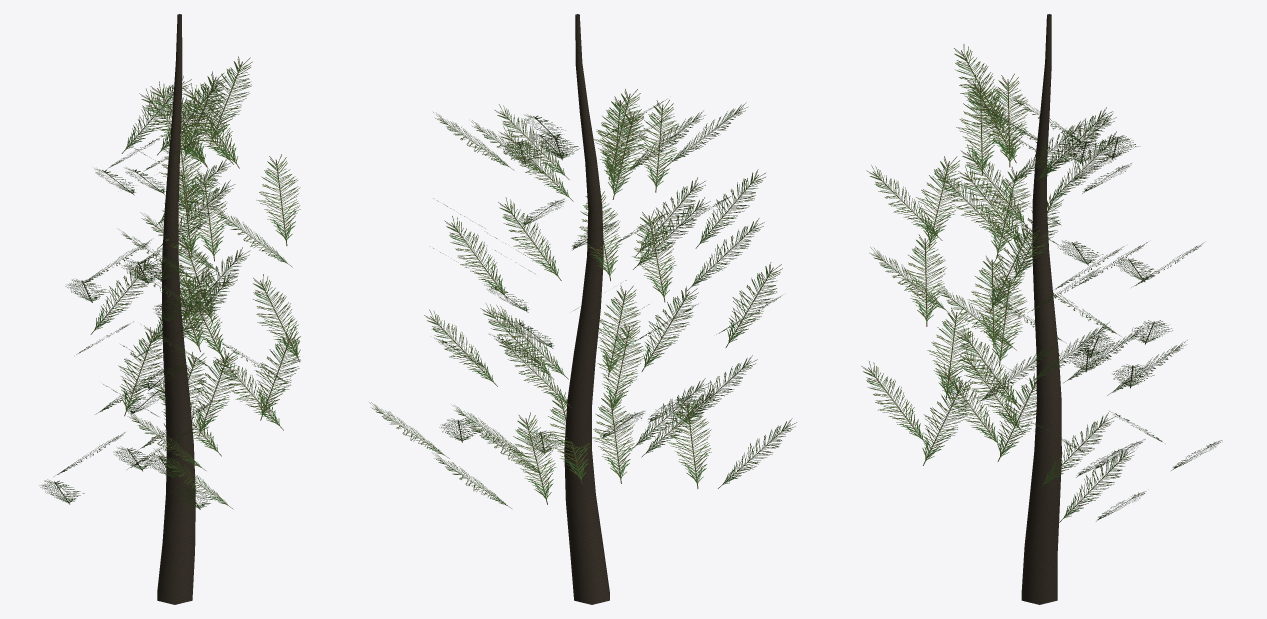
The model's file is Pine_31_LOD2.fbx.
The picture shows the model from 3 angles, left to right: view 1: azimuth 30°, elevation 25°; view 2: azimuth 150°, elevation 25°; view 3: azimuth 270°, elevation 25°; orthographic projection.
Visible parts, largest first — view 1: Pine_31_LOD2; view 2: Pine_31_LOD2; view 3: Pine_31_LOD2.
Part boxes in pixels (x1,y1,x2,y2): Pine_31_LOD2: (39,14,300,604); Pine_31_LOD2: (369,14,796,604); Pine_31_LOD2: (861,14,1222,604).
Size of the model in its own units: 552 by 804 by 516.
